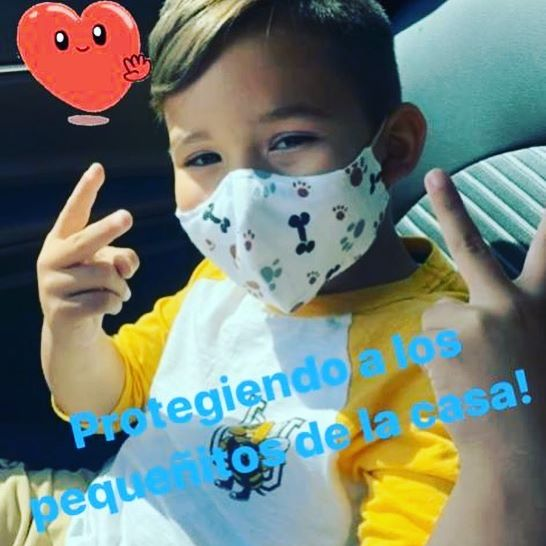homemade: (170, 161, 390, 308)
